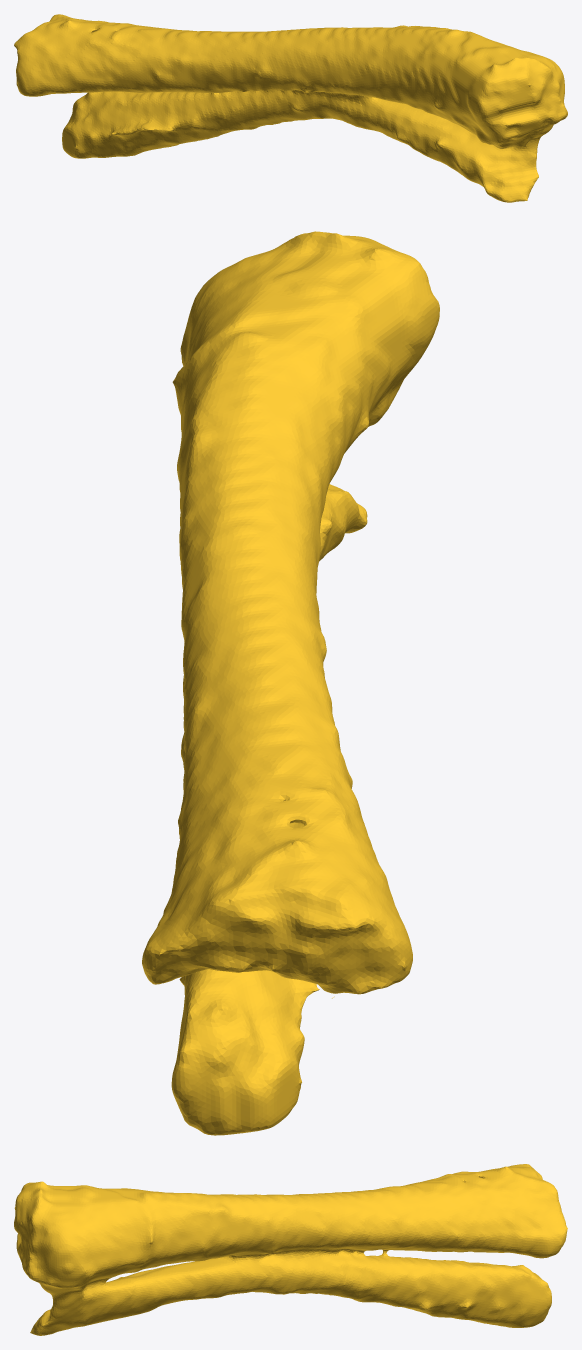
Rendered from tibfibR.glb.
3 views of the same model, one above another, from view 1: azimuth 30°, elevation 25°; view 2: azimuth 150°, elevation 25°; view 3: azimuth 270°, elevation 25° (orthographic). The views are drawn at different scales.
Visible parts, largest first — view 1: tibfibR; view 2: tibfibR; view 3: tibfibR.
Boxes of the visible parts, bbox=[...] form: tibfibR: bbox=[14, 14, 567, 202]; tibfibR: bbox=[142, 231, 439, 1135]; tibfibR: bbox=[14, 1164, 567, 1335].
Size of the model in its own units: 0.0104 by 0.00684 by 0.0154.
